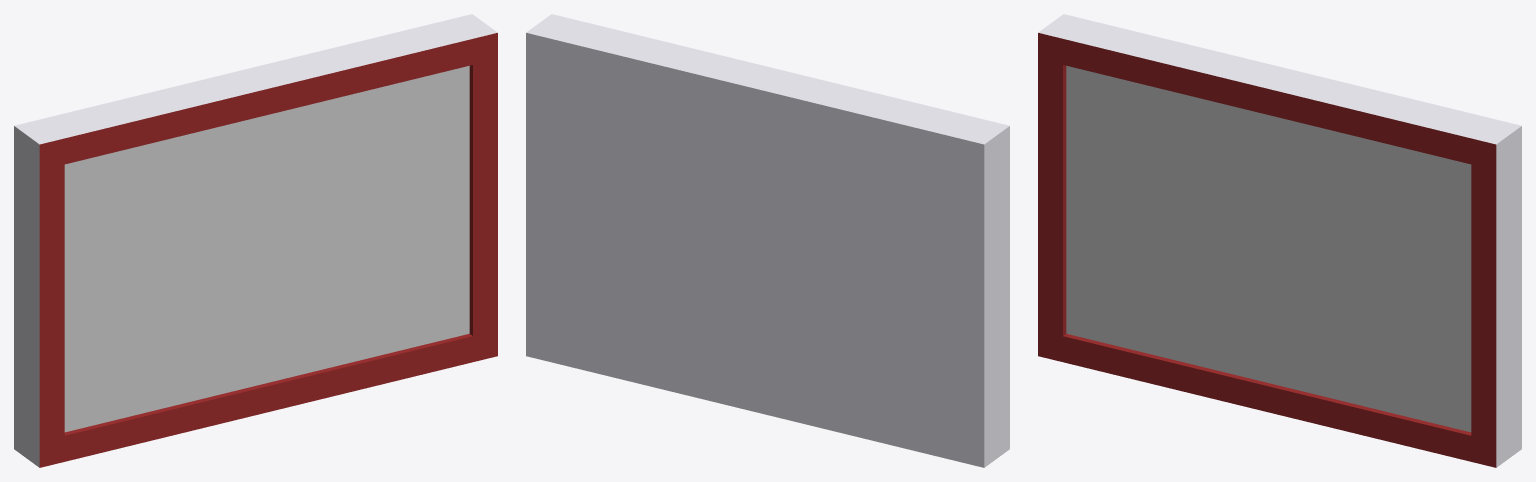
Rendered from Asian_Prop_Building_Modular_Wall_01.FBX.
3 views of the same model, side by side, from view 1: azimuth 30°, elevation 25°; view 2: azimuth 150°, elevation 25°; view 3: azimuth 330°, elevation 25° (orthographic).
Visible parts, largest first — view 1: Asian_Prop_Building_Modular_Wall_01; view 2: Asian_Prop_Building_Modular_Wall_01; view 3: Asian_Prop_Building_Modular_Wall_01.
Boxes of the visible parts, x1,y1,x2,y2 form: Asian_Prop_Building_Modular_Wall_01: (14, 14, 497, 467); Asian_Prop_Building_Modular_Wall_01: (526, 14, 1009, 467); Asian_Prop_Building_Modular_Wall_01: (1038, 14, 1521, 467).
Bounding box in the file's own units: 5167 × 3485 × 500.
